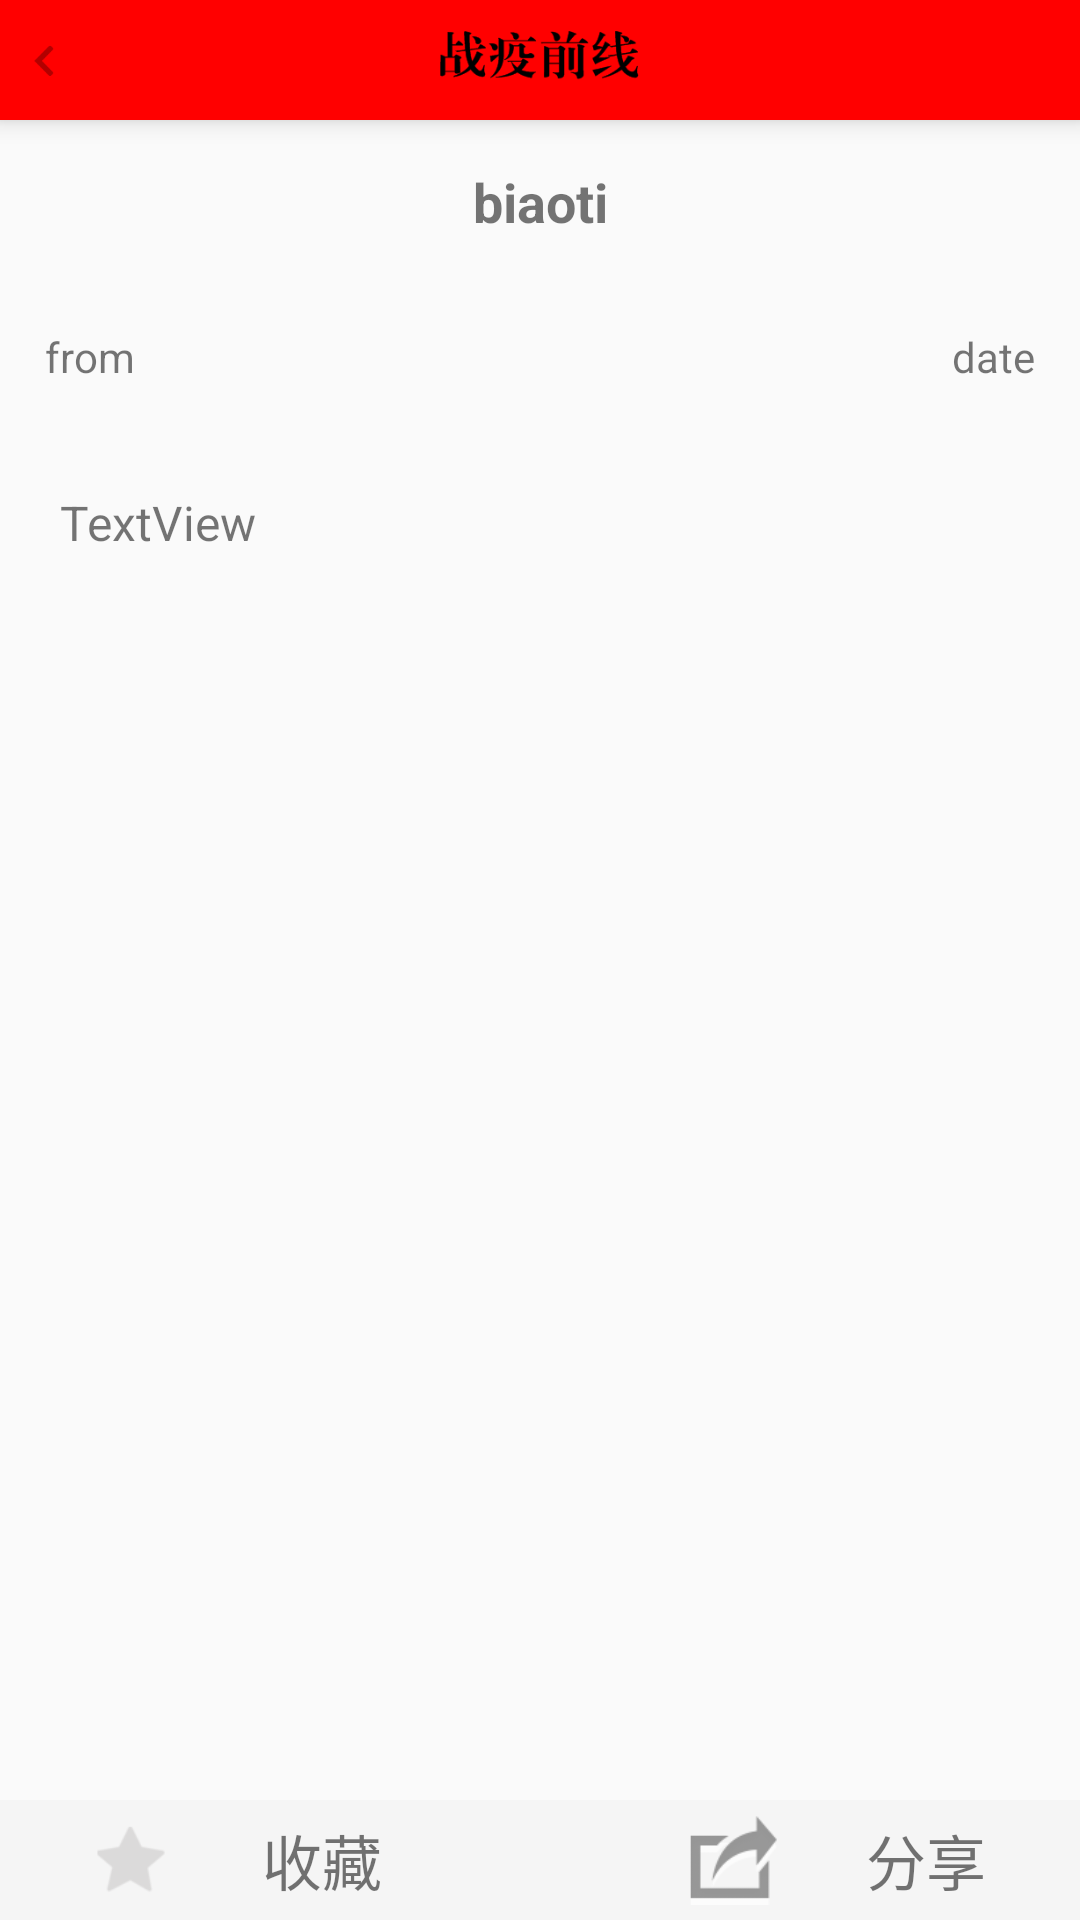

Icons on this 1080×1920 Android screen, each with its box as box=[x1, y1, x2, y2]:
collection: box=[98, 1828, 163, 1890]
detail share: box=[690, 1817, 777, 1898]
